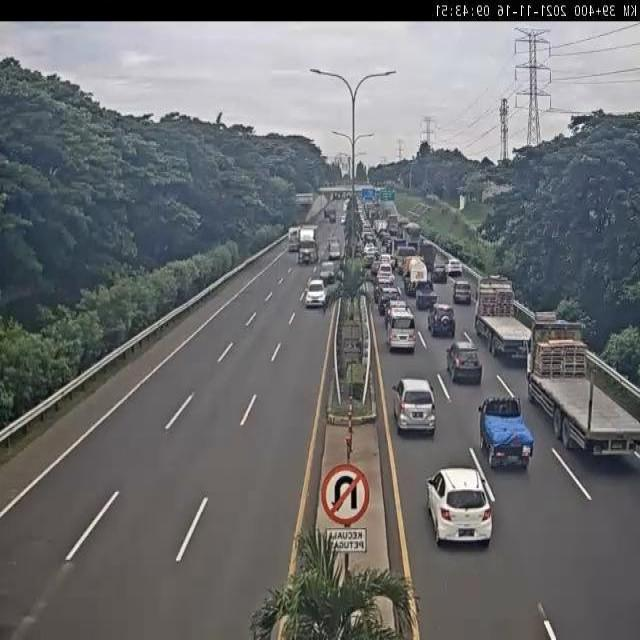Car: (425, 466, 493, 546), (392, 376, 437, 435), (446, 339, 482, 384), (427, 302, 455, 336), (384, 298, 408, 330), (414, 281, 438, 310), (377, 286, 400, 316), (306, 278, 328, 308), (452, 279, 472, 304), (320, 260, 338, 283), (430, 264, 448, 284), (446, 258, 463, 278), (327, 240, 341, 259), (341, 215, 346, 225)
Truck: (526, 313, 637, 456), (474, 276, 527, 364), (479, 397, 534, 468), (403, 256, 429, 298), (298, 226, 319, 264), (388, 236, 408, 259), (288, 227, 300, 252), (388, 214, 398, 232)
Van: (386, 308, 417, 352)
